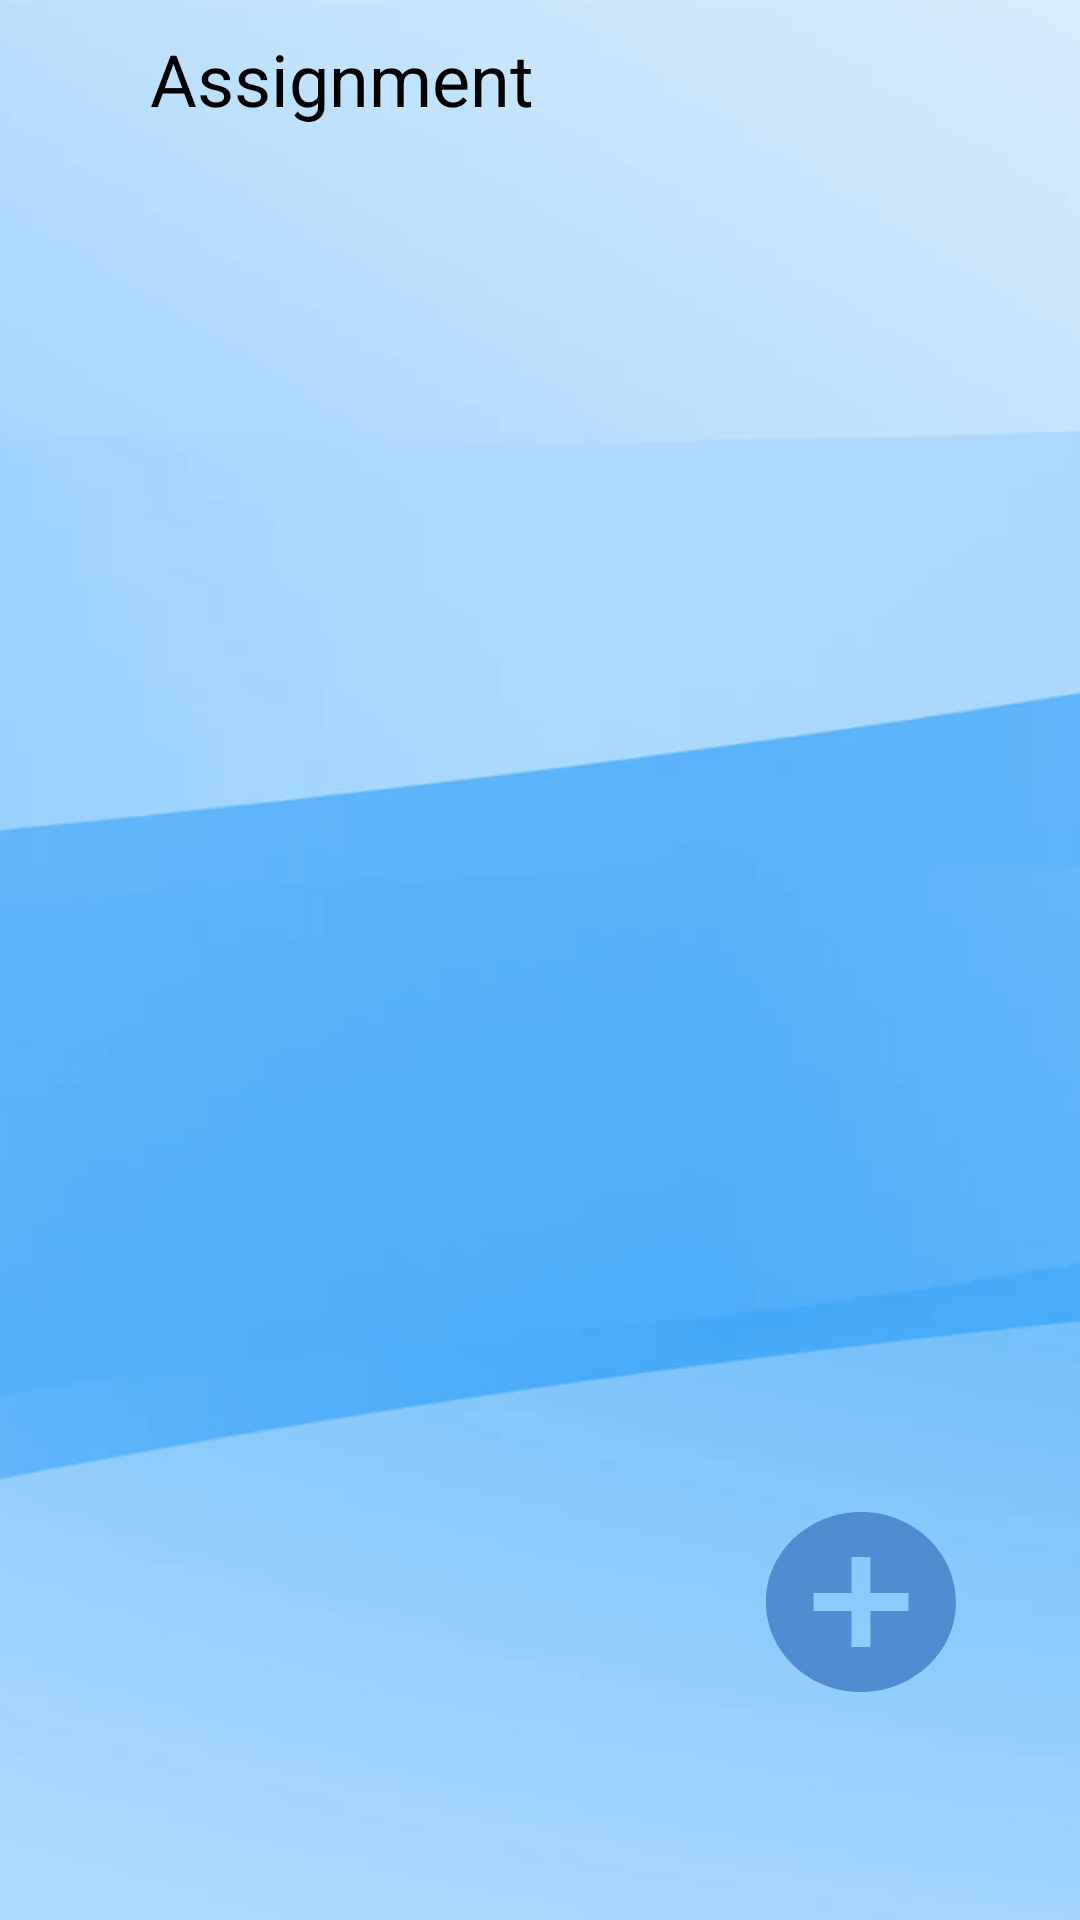

Screen size 1080 x 1920. Icon name, then its box in pixels as bbox=[x1, y1, x2, y2]:
addentry: bbox=[766, 1512, 956, 1692]
